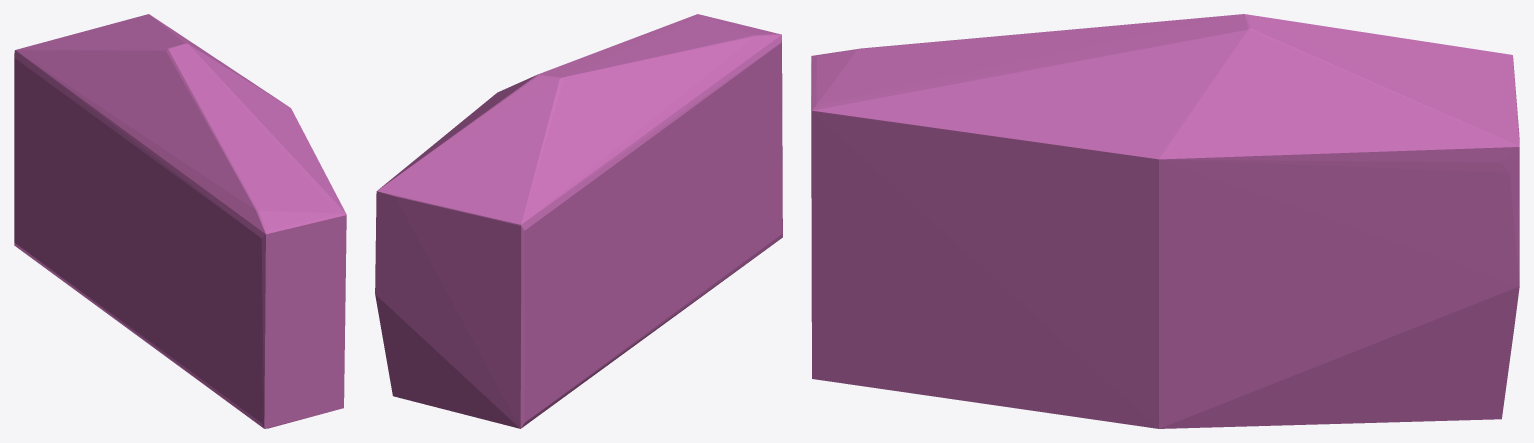
File: equipment_sprayGunCleaningStation_dualOpen_a01.glb
3 renders of one model, left to right at view 1: azimuth 30°, elevation 25°; view 2: azimuth 150°, elevation 25°; view 3: azimuth 270°, elevation 25°, orthographic. The views are drawn at different scales.
Visible parts, largest first — view 1: geometry_0; view 2: geometry_0; view 3: geometry_0.
Part boxes in pixels (x1,y1,x2,y2): geometry_0: [14, 14, 346, 428]; geometry_0: [375, 14, 782, 428]; geometry_0: [811, 14, 1519, 428].
Size of the model in its own units: 0.1651 by 0.2732 by 0.4783.
